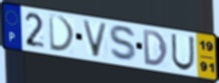2: (24, 12, 47, 51)
D: (47, 13, 77, 54), (141, 29, 169, 68)
S: (108, 24, 140, 64)
U: (170, 33, 196, 72)
V: (80, 19, 110, 59)
